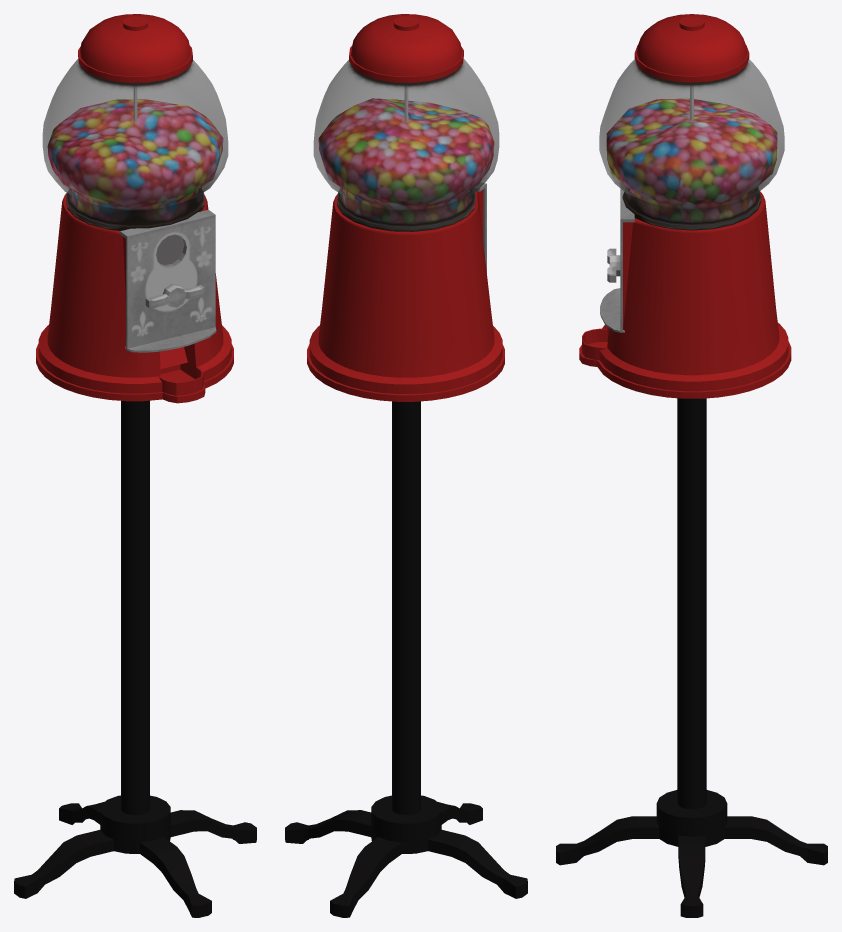
File: gumball-machine---lowpoly-4bb58e.glb
3 renders of one model, left to right at view 1: azimuth 30°, elevation 25°; view 2: azimuth 150°, elevation 25°; view 3: azimuth 270°, elevation 25°, orthographic.
Parts seen in each view (by area): view 1: PropMesh; view 2: PropMesh; view 3: PropMesh.
Part boxes in pixels (bbox=[...]): PropMesh: bbox=[14, 14, 256, 917]; PropMesh: bbox=[285, 14, 527, 917]; PropMesh: bbox=[556, 14, 827, 917].
Bounding box in the file's own units: 0.646 × 2.2 × 0.646.
3 materials, 3 textured.
